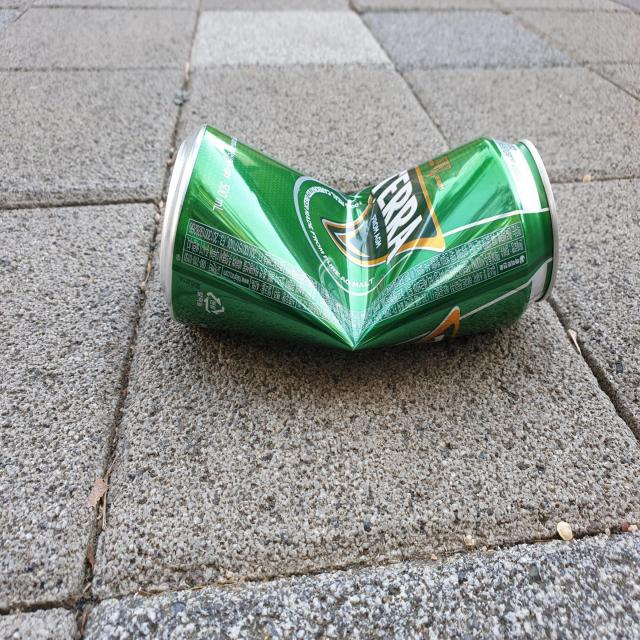can: (159, 124, 559, 350)
